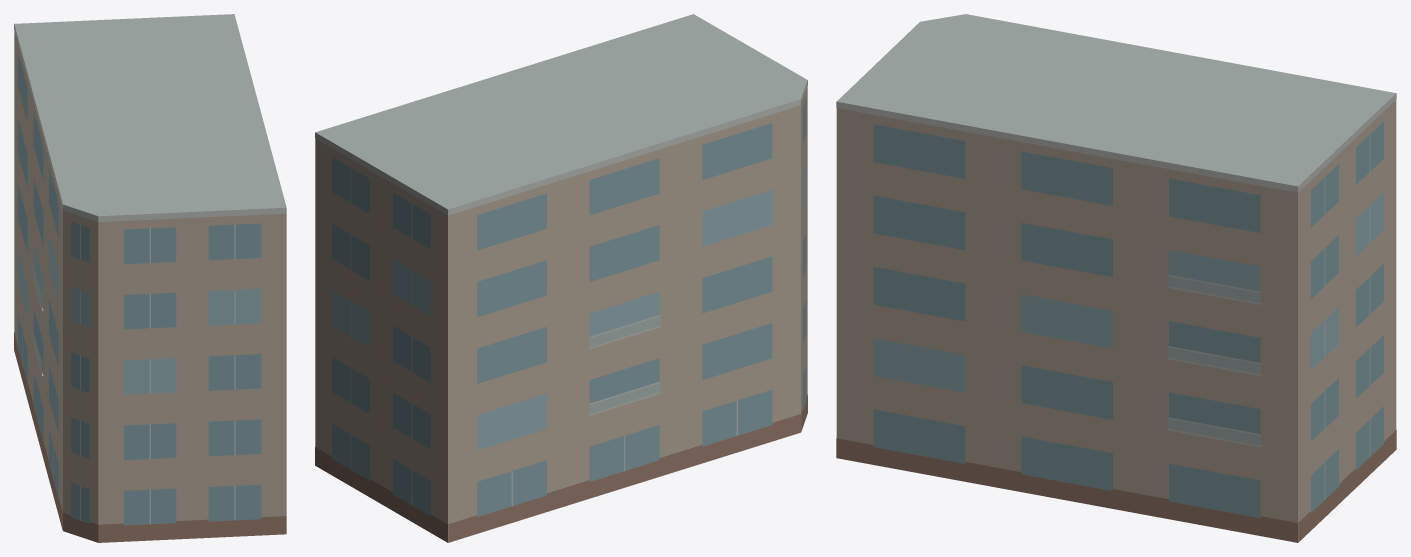
The model's file is survey-upis-32975177.glb.
3 views of the same model, side by side, from view 1: azimuth 30°, elevation 25°; view 2: azimuth 150°, elevation 25°; view 3: azimuth 270°, elevation 25° (orthographic). The views are drawn at different scales.
Visible parts, largest first — view 1: survey-upis-32975177.tmp; view 2: survey-upis-32975177.tmp; view 3: survey-upis-32975177.tmp.
Boxes of the visible parts, left/top/right/bottom form: survey-upis-32975177.tmp: left=14, top=14, right=286, bottom=542; survey-upis-32975177.tmp: left=315, top=14, right=807, bottom=542; survey-upis-32975177.tmp: left=836, top=14, right=1396, bottom=542.
Size of the model in its own units: 14.12 by 13.6 by 19.37.
